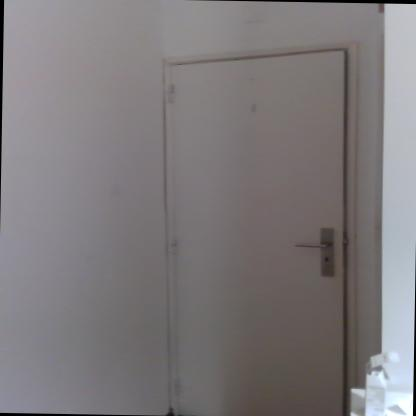closed: (136, 31, 392, 416)
